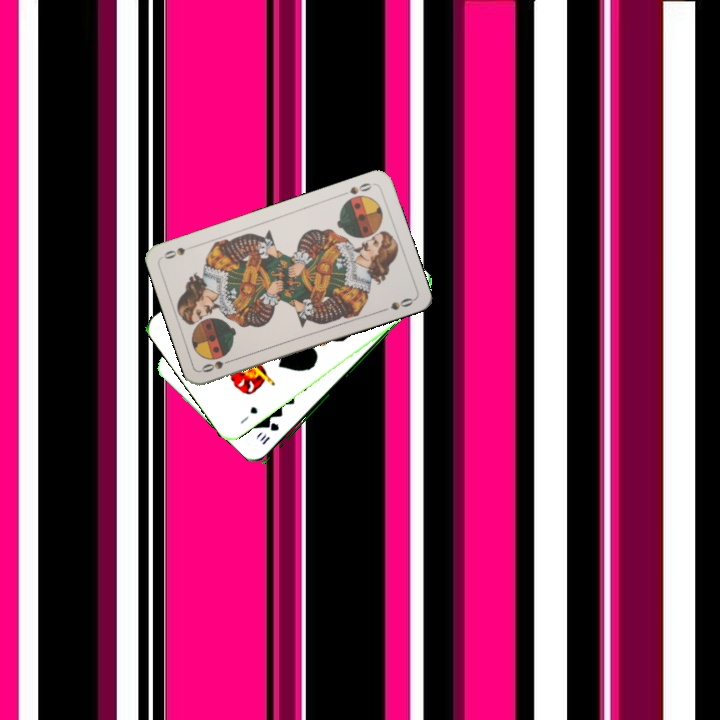G10: (256, 419, 282, 447)
GU: (236, 402, 260, 427)
SO: (197, 354, 237, 375), (337, 179, 377, 198)
